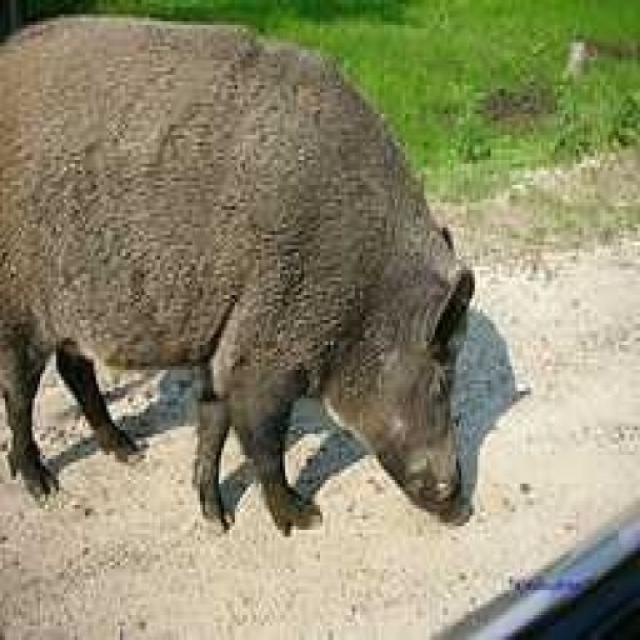pig: (0, 0, 507, 600)
